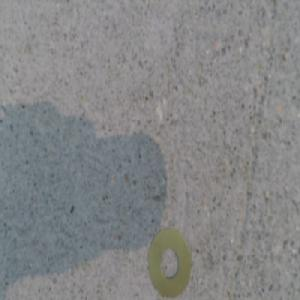Washer: (149, 227, 190, 296)
